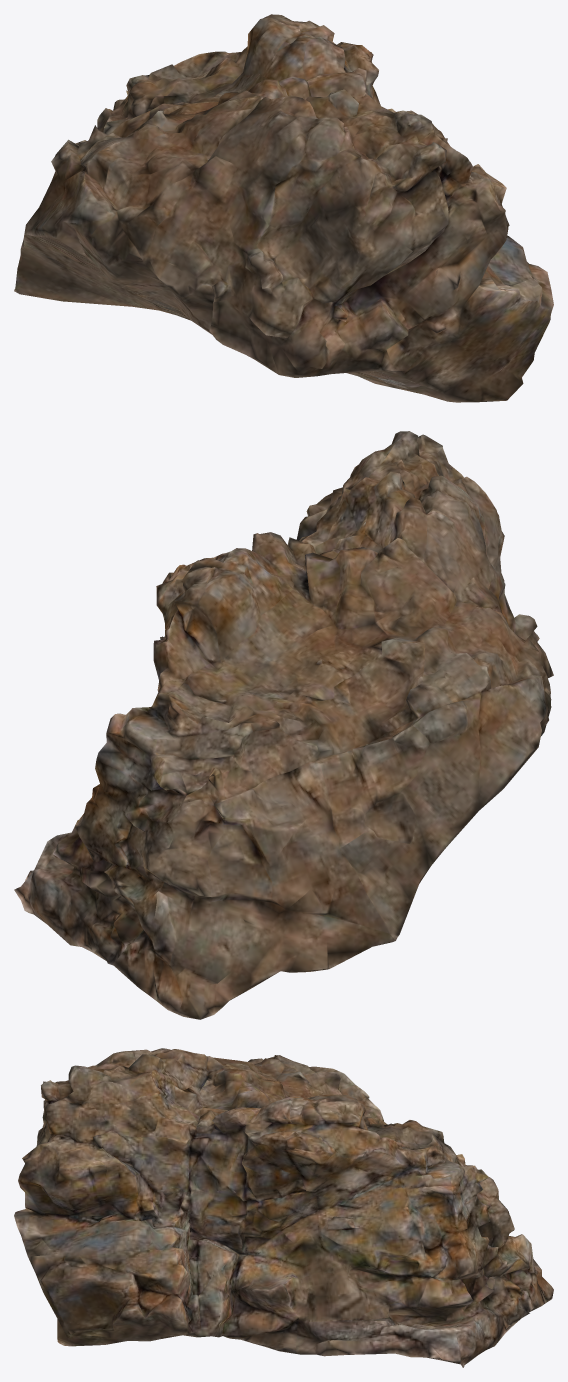
The model's file is ph_boulder_01_lod.glb.
The picture shows the model from 3 angles, top to bottom: view 1: azimuth 30°, elevation 25°; view 2: azimuth 150°, elevation 25°; view 3: azimuth 270°, elevation 25°; orthographic projection. The views are drawn at different scales.
Visible parts, largest first — view 1: boulder_01; view 2: boulder_01; view 3: boulder_01.
Part boxes in pixels (box(x1,y1,x2,y2)): boulder_01: box(14, 14, 553, 402); boulder_01: box(14, 431, 553, 1019); boulder_01: box(14, 1048, 553, 1367).
Size of the model in its own units: 1.27 by 1 by 1.83.
Materials: 1 (1 with a texture image).
